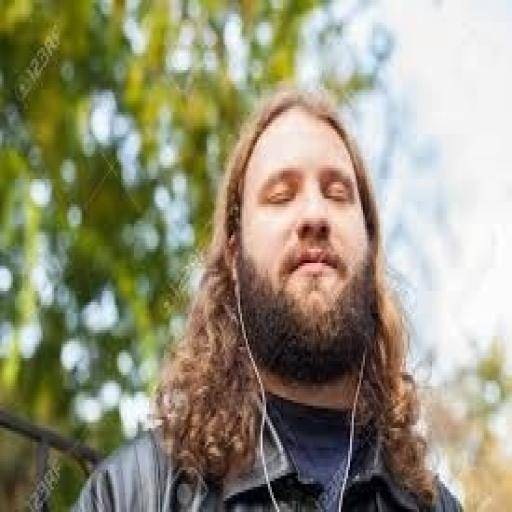listening_to_music: (54, 84, 467, 509)
